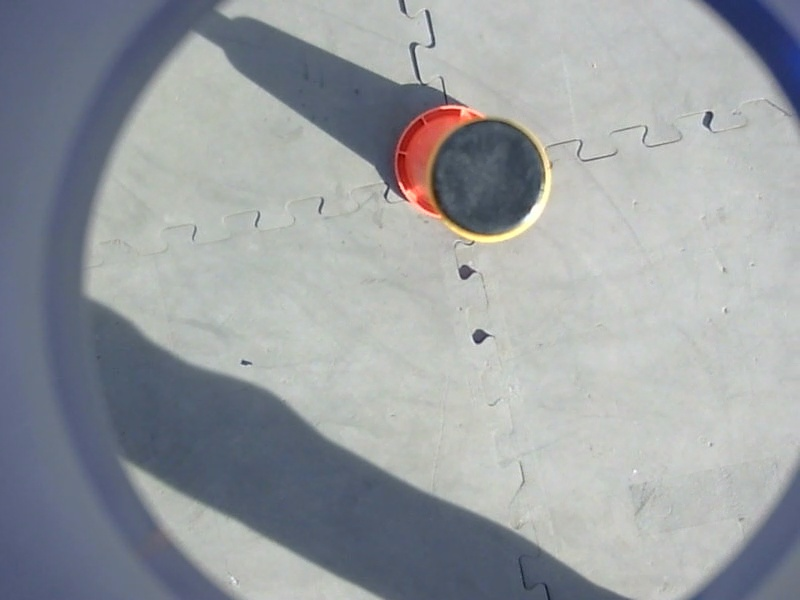tip: (421, 111, 558, 250)
